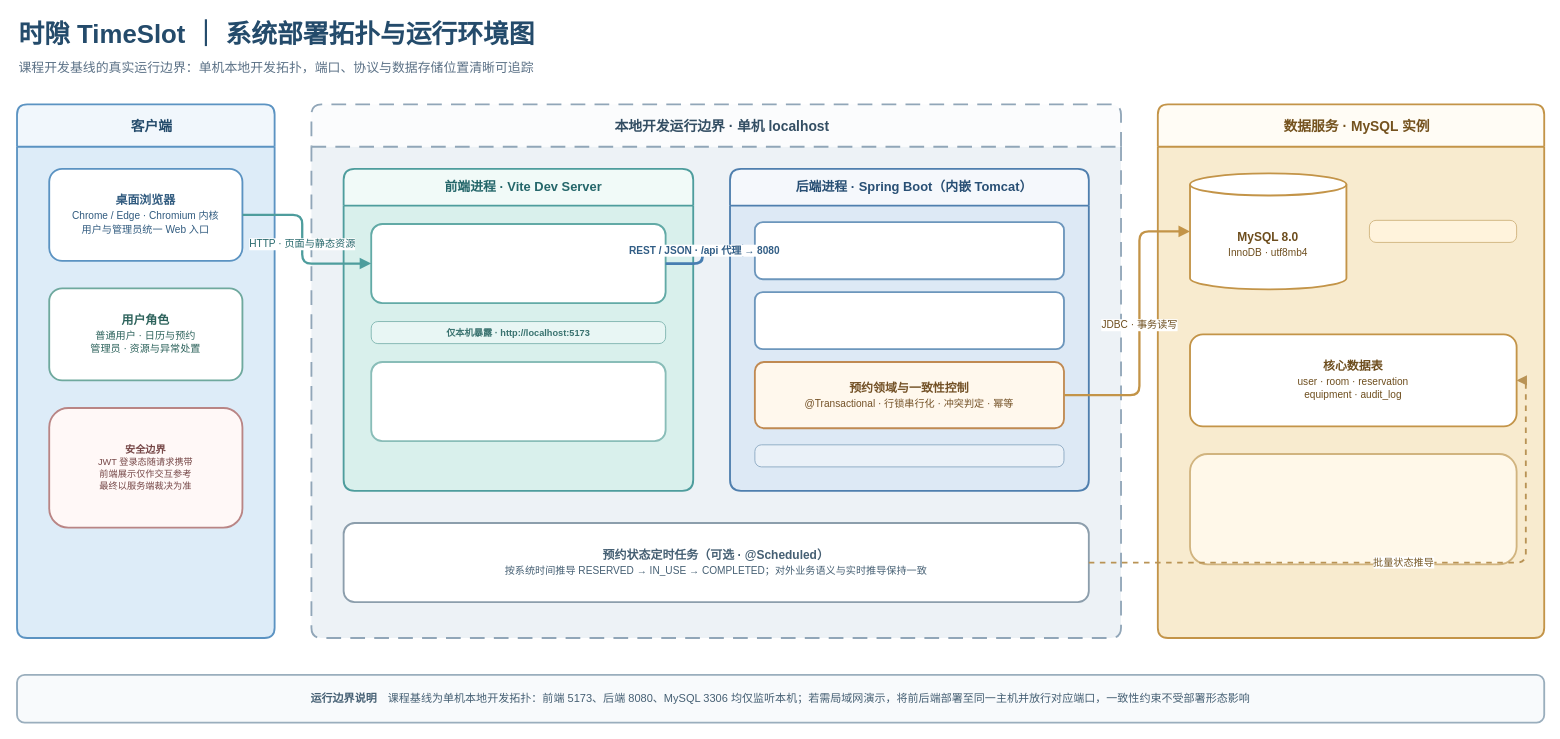
Image size: 1560x739. Some labels were removed from this diagram. Each missing label, with the centre of its shape:
"REST 接口层 /auth · /rooms · /reservations" goes at (x=908, y=250).
"TCP 3306 · 仅本机" goes at (x=1442, y=230).
"Vue 3 SPA 日历时间轴 · 预约表单 · 管理台 Pinia · Vue Router · Axios" goes at (x=518, y=263).
"仅本机监听 · http://localhost:8080" goes at (x=909, y=455).
"安全与校验 Spring Security · JWT · RBAC · Validation" goes at (x=908, y=320).
"开发代理 /api → http://localhost:8080 前端直连后端 · 未部署反向代理" goes at (x=518, y=401).
"数据原则 事务提交后预约才对外可见 取消 = 置 CANCELLED，不物理删除 审计日志只追加" goes at (x=1353, y=509).
